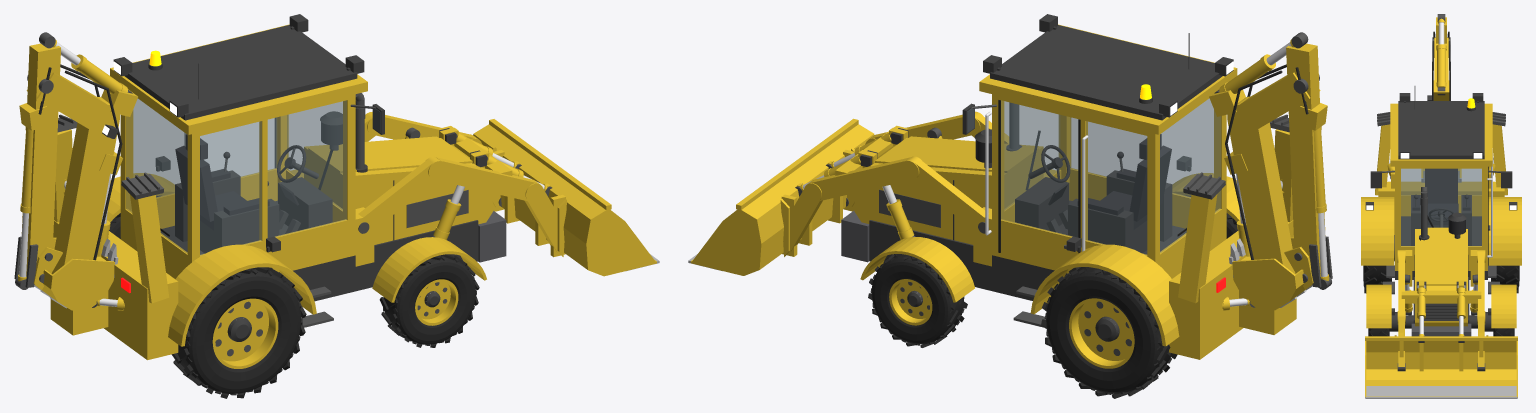
File: backhoe_loader.glb
3 views of the same model, side by side, from view 1: azimuth 30°, elevation 25°; view 2: azimuth 150°, elevation 25°; view 3: azimuth 270°, elevation 25° (orthographic). The views are drawn at different scales.
Parts seen in each view (by area): view 1: cab, chassis, wheel_rear_right_spin, loader_bucket_tilt, boom_tilt, loader_arm_tilt, wheel_front_right_spin, dipper_tilt, backhoe_mainframe, backhoe_bucket_tilt, stabilizer_right_tilt, swing_frame_rotate (+6 smaller); view 2: cab, chassis, wheel_rear_left_spin, loader_bucket_tilt, boom_tilt, loader_arm_tilt, wheel_front_left_spin, dipper_tilt, backhoe_mainframe, backhoe_bucket_tilt, stabilizer_left_tilt, swing_frame_rotate (+6 smaller); view 3: cab, chassis, loader_bucket_tilt, loader_arm_tilt, backhoe_mainframe, stabilizer_right_tilt, stabilizer_left_tilt, boom_tilt, wheel_rear_right_spin, wheel_rear_left_spin, dipper_cylinder_rotate, loader_bucket_cylinder_right_rotate (+5 smaller).
Part boxes in pixels (x1,y1,x2,y2): cab: (110,14,384,327); chassis: (107,93,506,346); wheel_rear_right_spin: (171,267,306,398); loader_bucket_tilt: (473,119,659,276); boom_tilt: (26,64,137,273); loader_arm_tilt: (358,112,557,252); wheel_front_right_spin: (379,254,479,347); dipper_tilt: (19,43,60,276); backhoe_mainframe: (53,220,178,360); backhoe_bucket_tilt: (33,237,118,310); stabilizer_right_tilt: (121,172,169,303); swing_frame_rotate: (50,256,108,335); cab: (962,14,1237,327); chassis: (841,102,1240,346); wheel_rear_left_spin: (1041,267,1177,398); loader_bucket_tilt: (688,118,874,275); boom_tilt: (1209,64,1320,273); loader_arm_tilt: (789,111,1008,251); wheel_front_left_spin: (868,254,967,347); dipper_tilt: (1286,43,1327,276); backhoe_mainframe: (1169,220,1293,359); backhoe_bucket_tilt: (1229,237,1313,310); stabilizer_left_tilt: (1178,172,1225,303); swing_frame_rotate: (1239,256,1296,334); cab: (1370,86,1512,294); chassis: (1361,187,1521,336); loader_bucket_tilt: (1365,332,1517,398); loader_arm_tilt: (1397,250,1485,371); backhoe_mainframe: (1378,173,1504,234); stabilizer_right_tilt: (1375,112,1390,195); stabilizer_left_tilt: (1492,112,1507,195); boom_tilt: (1427,37,1450,100); wheel_rear_right_spin: (1363,265,1391,293); wheel_rear_left_spin: (1491,265,1519,293); dipper_cylinder_rotate: (1436,44,1446,95); loader_bucket_cylinder_right_rotate: (1417,285,1425,318).
Bounding box in the file's own units: 6.6 × 3.83 × 2.42.
16 materials, 16 textured.
